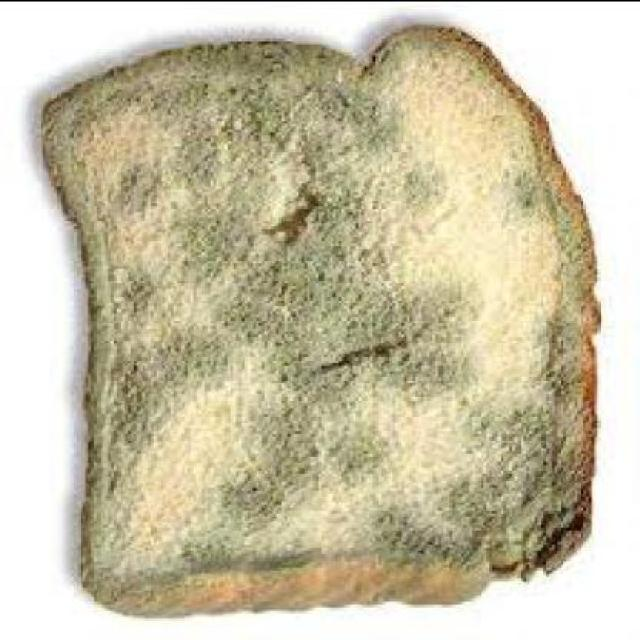BIODEGRADABLE: (46, 26, 600, 620)
